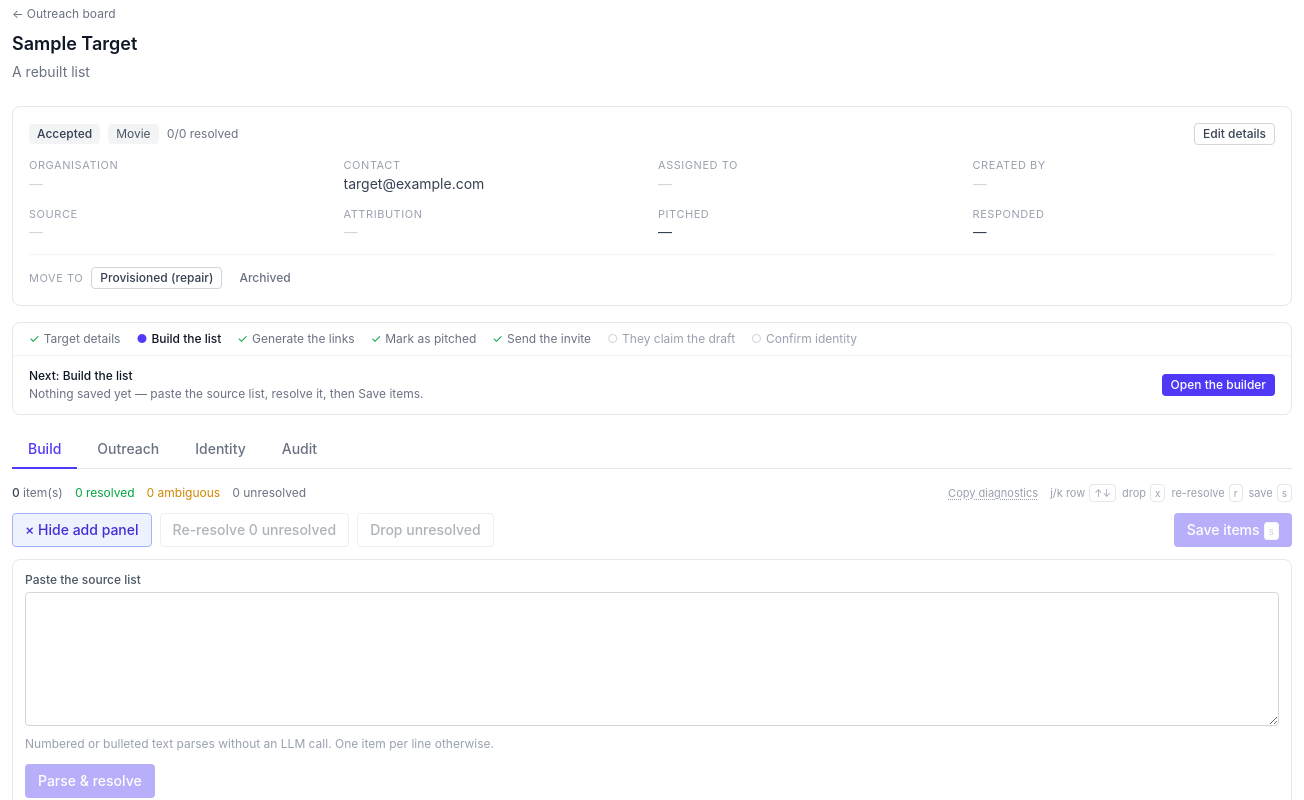
it: pitch detail — token issuing › shows both public links when tokens exist
expect the text "A rebuilt list" is shown: met, box [12, 63, 90, 80]
Click the button "Outreach" at (128, 450), box [81, 431, 175, 469]
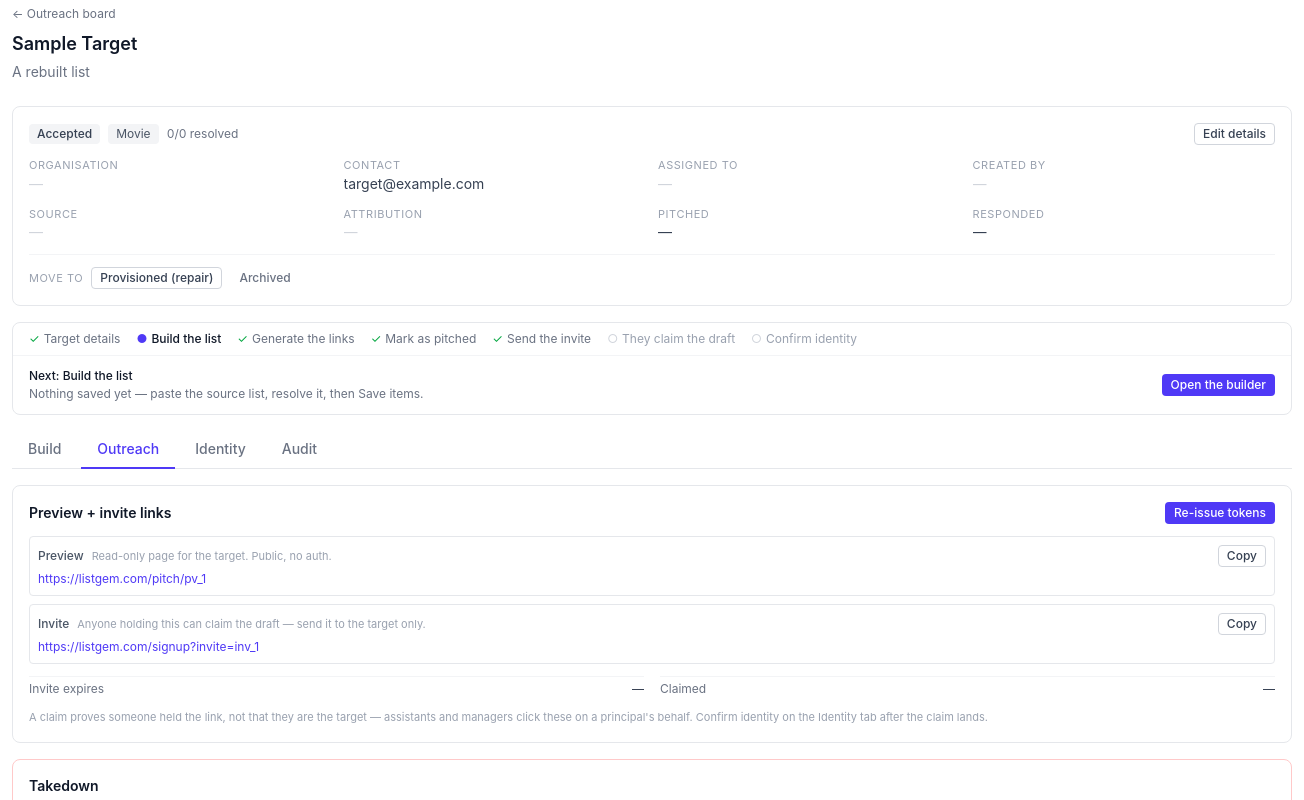
expect the link "https://listgem.com/pitch/pv_1" is shown: met, box [38, 571, 206, 586]
expect the link "https://listgem.com/signup?invite=inv_1" is shown: met, box [38, 639, 259, 654]
